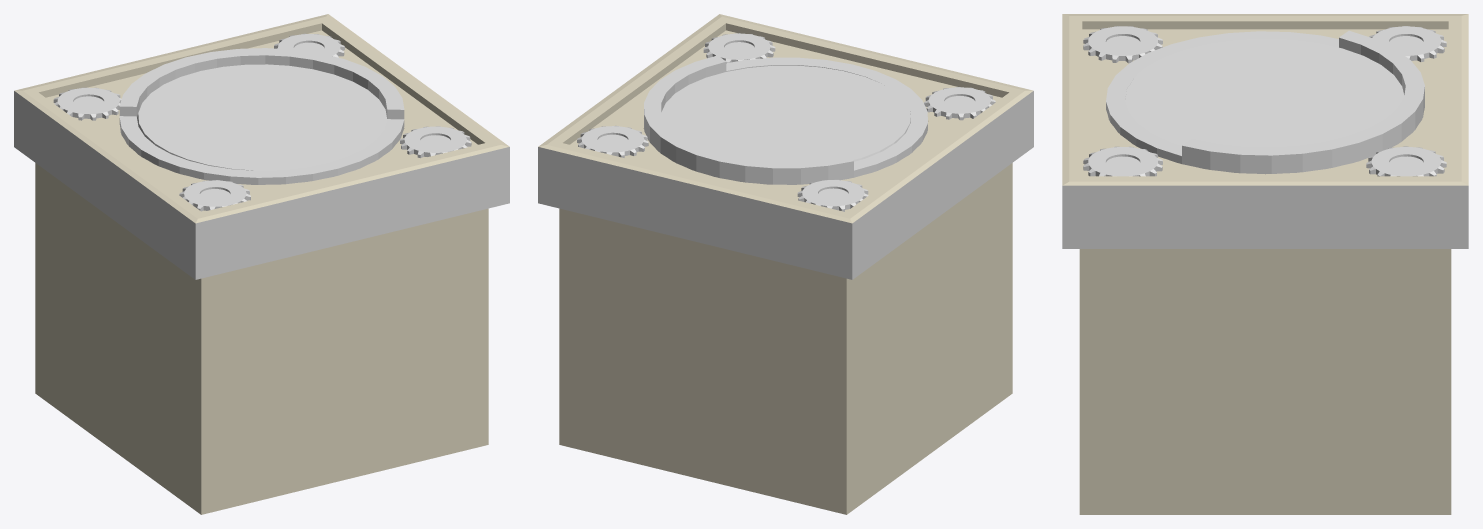
Rendered from portal.fbx.
3 views of the same model, side by side, from view 1: azimuth 30°, elevation 25°; view 2: azimuth 150°, elevation 25°; view 3: azimuth 270°, elevation 25° (orthographic). The views are drawn at different scales.
Visible parts, largest first — view 1: create-hole, Cylinder.005, Cylinder, Cylinder.004, Cylinder.001, Cylinder.003, Cylinder.002; view 2: create-hole, Cylinder.005, Cylinder, Cylinder.003, Cylinder.002, Cylinder.004, Cylinder.001; view 3: create-hole, Cylinder.005, Cylinder, Cylinder.003, Cylinder.001, Cylinder.002, Cylinder.004.
Boxes of the visible parts, bbox=[...] form: create-hole: bbox=[14, 14, 509, 514]; Cylinder.005: bbox=[137, 64, 387, 170]; Cylinder: bbox=[119, 48, 404, 184]; Cylinder.004: bbox=[53, 87, 121, 120]; Cylinder.001: bbox=[400, 126, 471, 158]; Cylinder.003: bbox=[179, 180, 250, 211]; Cylinder.002: bbox=[274, 33, 344, 57]; create-hole: bbox=[538, 14, 1033, 514]; Cylinder.005: bbox=[661, 65, 910, 161]; Cylinder: bbox=[644, 55, 927, 184]; Cylinder.003: bbox=[924, 87, 995, 120]; Cylinder.002: bbox=[577, 125, 648, 157]; Cylinder.004: bbox=[797, 179, 868, 211]; Cylinder.001: bbox=[703, 33, 775, 63]; create-hole: bbox=[1062, 14, 1468, 514]; Cylinder.005: bbox=[1125, 38, 1404, 147]; Cylinder: bbox=[1106, 30, 1424, 174]; Cylinder.003: bbox=[1083, 26, 1162, 63]; Cylinder.001: bbox=[1083, 146, 1162, 176]; Cylinder.002: bbox=[1366, 146, 1446, 176]; Cylinder.004: bbox=[1369, 26, 1446, 61].
Bounding box in the file's own units: 200 × 189 × 200.
